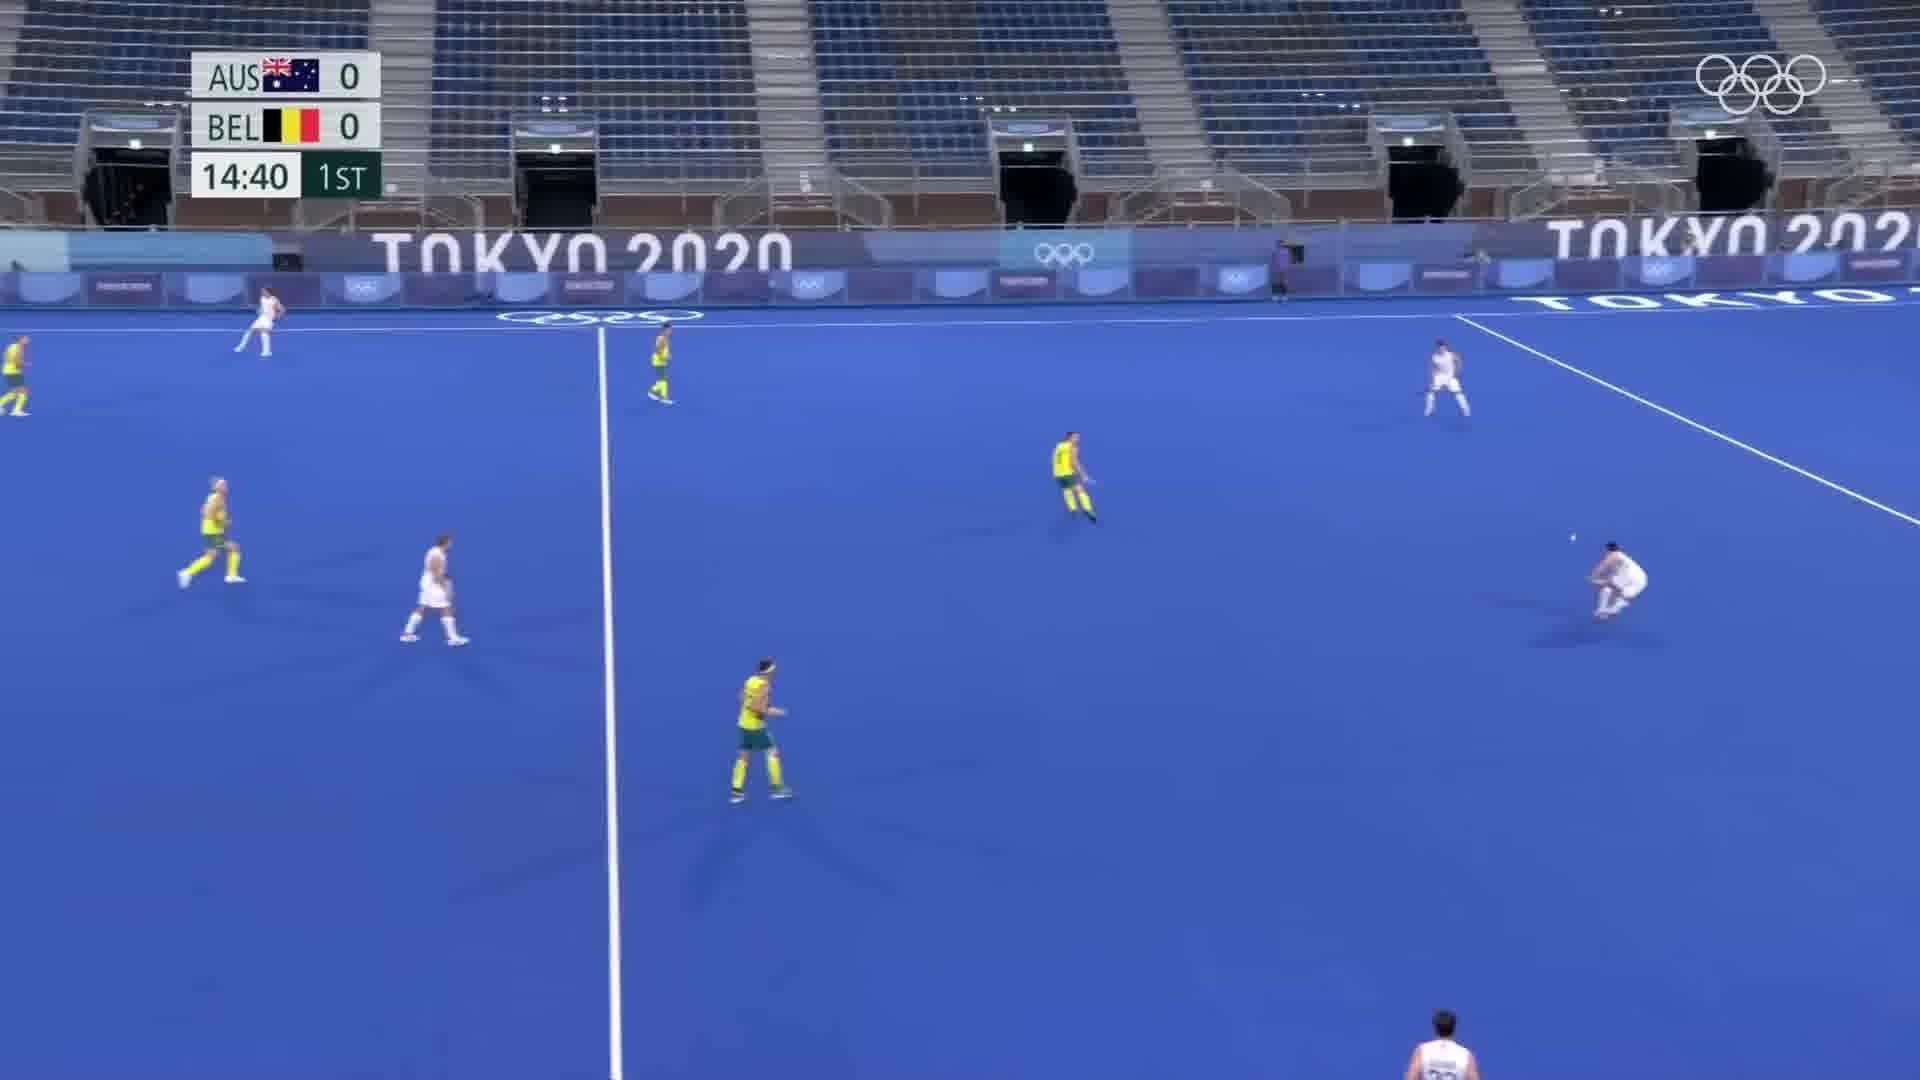ball: (1558, 517, 1586, 551)
